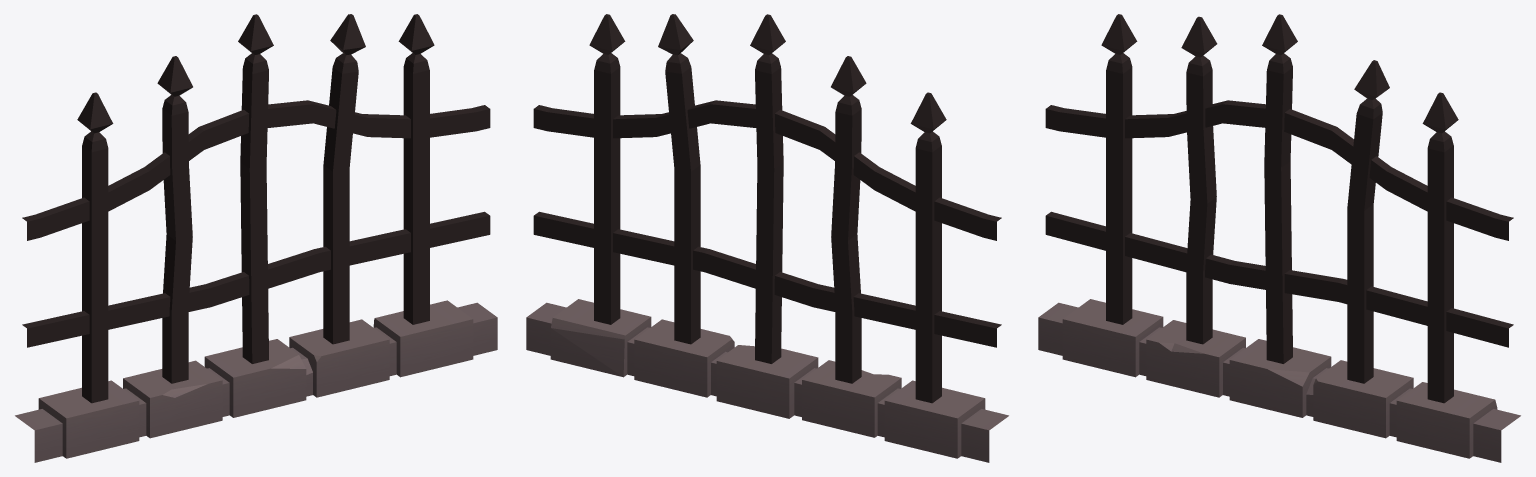
File: fenceASection2.glb
3 views of the same model, side by side, from view 1: azimuth 30°, elevation 25°; view 2: azimuth 150°, elevation 25°; view 3: azimuth 330°, elevation 25° (orthographic).
Parts seen in each view (by area): view 1: fenceASection2; view 2: fenceASection2; view 3: fenceASection2.
Boxes of the visible parts, x1,y1,x2,y2 form: fenceASection2: (15, 14, 497, 462); fenceASection2: (526, 14, 1008, 462); fenceASection2: (1038, 14, 1520, 462).
Bounding box in the file's own units: 2.71 × 2.15 × 0.2926.
Materials: 1 (1 with a texture image).
